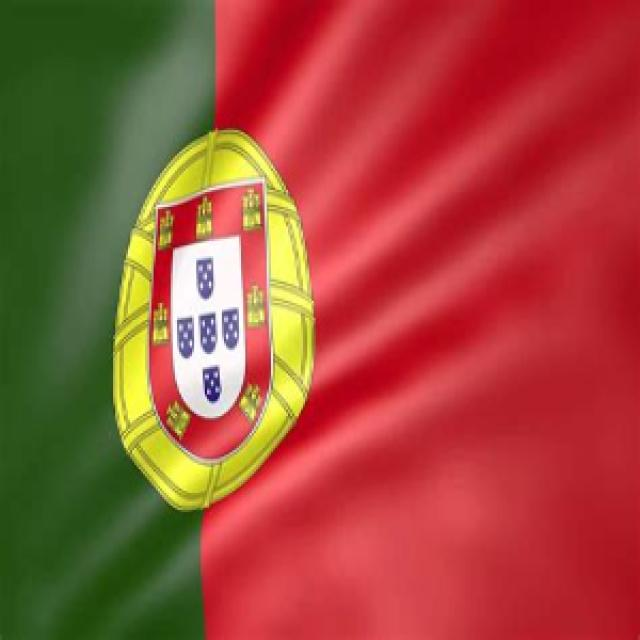portugal: (3, 2, 640, 600)
